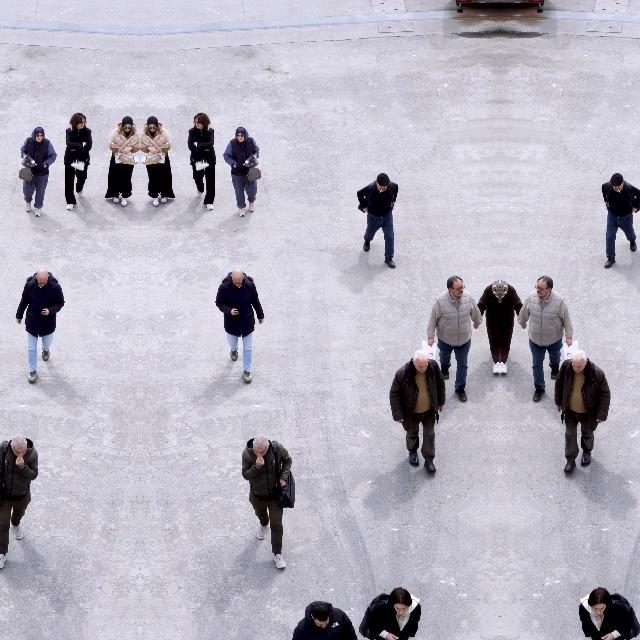person: (389, 349, 446, 475), (427, 275, 483, 403), (517, 275, 573, 403), (554, 349, 610, 475), (242, 435, 292, 569), (215, 269, 265, 383), (15, 269, 65, 383), (0, 435, 38, 569), (356, 173, 399, 269), (600, 173, 640, 269), (358, 586, 422, 640), (223, 126, 260, 218), (19, 126, 56, 218), (578, 586, 640, 639), (140, 116, 176, 207), (104, 116, 140, 207), (187, 112, 217, 212), (63, 112, 93, 212), (292, 600, 358, 640), (476, 279, 499, 375), (501, 279, 524, 375)
